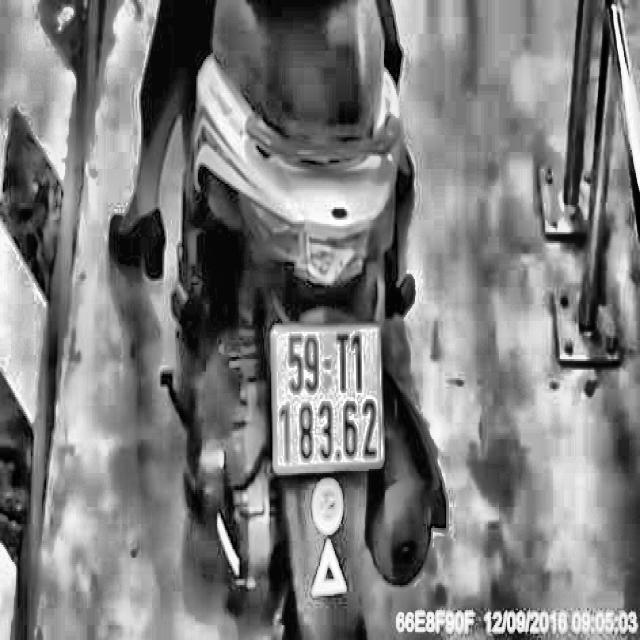plate: (264, 312, 390, 481)
